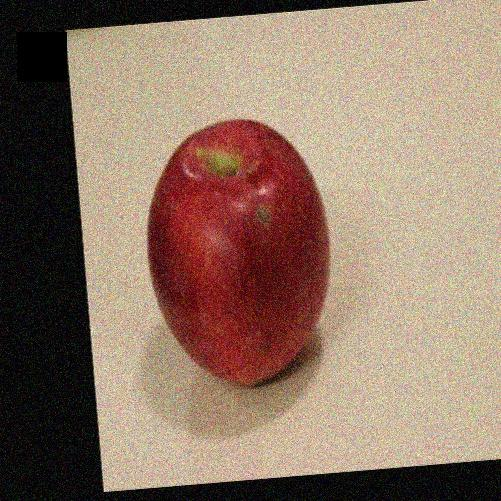red apple: (147, 117, 332, 387)
